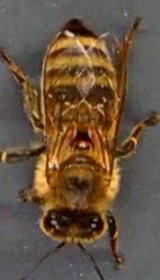varroa_mite: (64, 128, 100, 152)
